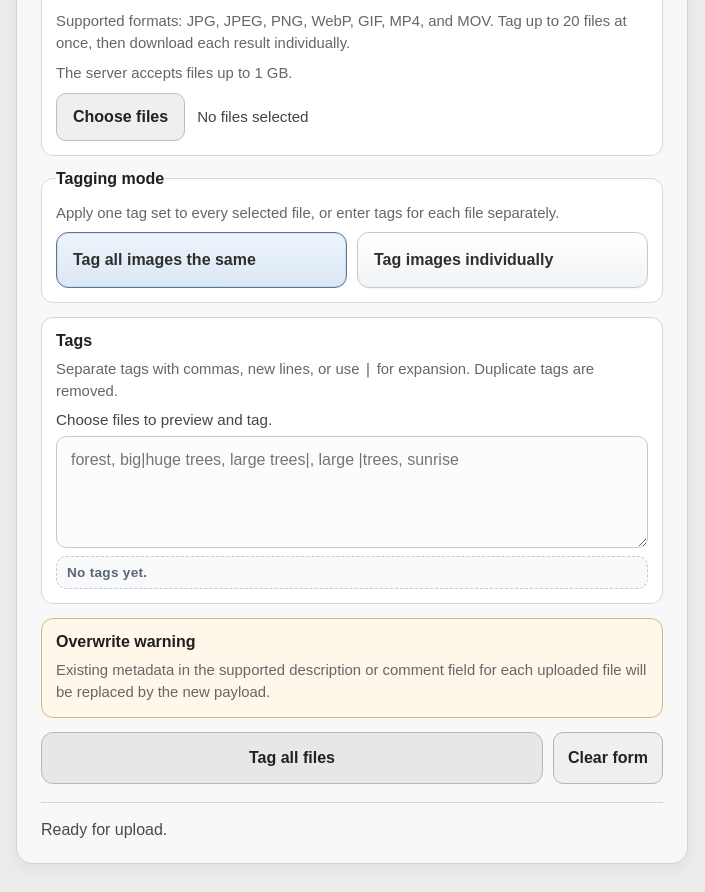
App › requires a file and tags before submitting
(page scrolled)
Expected: the text "The server accepts files up to 1 GB." is shown, [56,65,292,81]
Click the button "Tag all files" at (292,758), box [41,732,543,784]
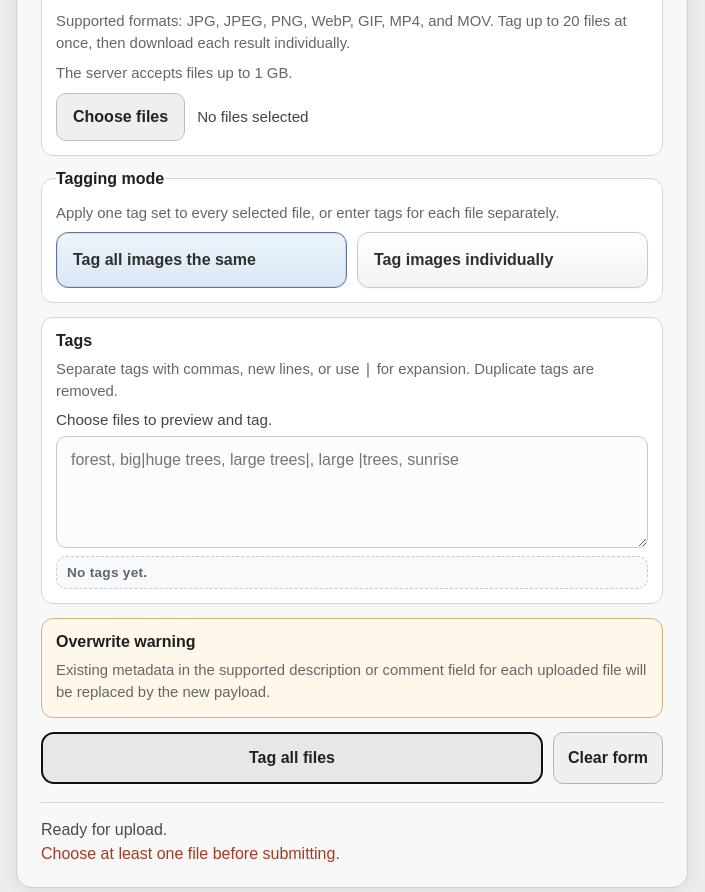
Expected: the text "Choose at least one file before submitting." is shown, [41,845,340,862]
